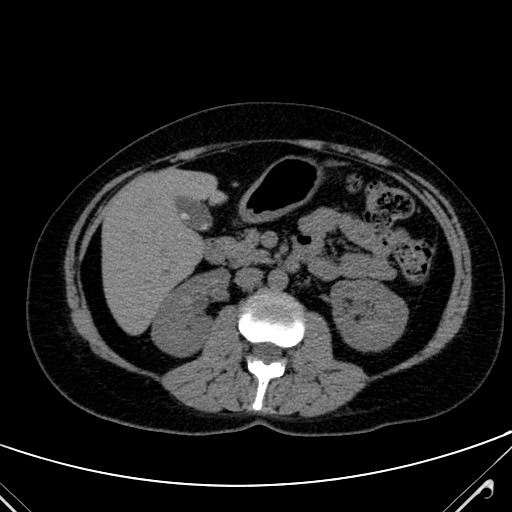vesicula: (174, 192, 215, 235)
